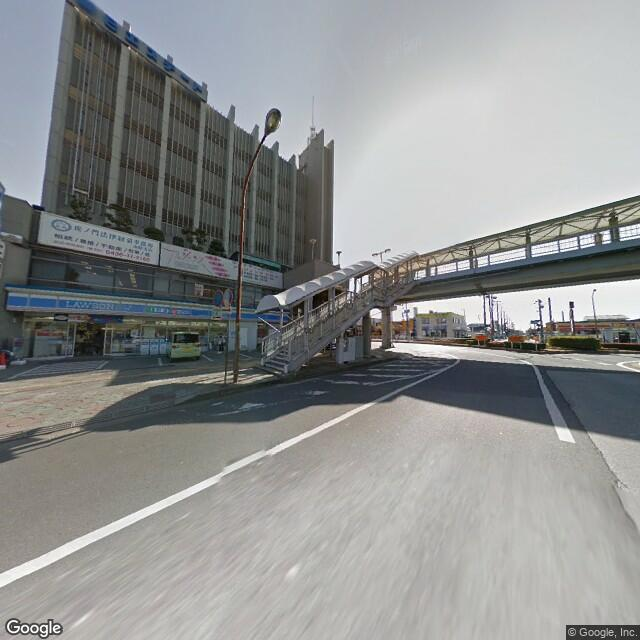lawson: (6, 286, 260, 326)
